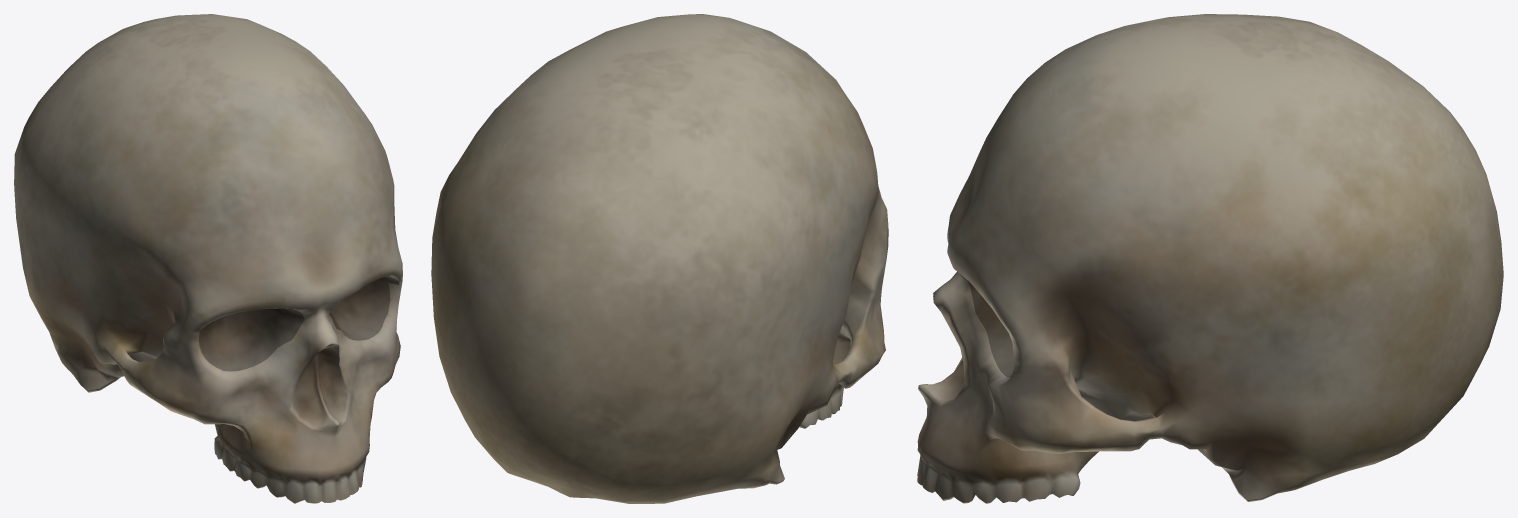
The model's file is skull.gltf.
3 renders of one model, left to right at view 1: azimuth 30°, elevation 25°; view 2: azimuth 150°, elevation 25°; view 3: azimuth 270°, elevation 25°, orthographic. The views are drawn at different scales.
Parts seen in each view (by area): view 1: SM_Skeleton; view 2: SM_Skeleton; view 3: SM_Skeleton.
Boxes of the visible parts, x1=… form: SM_Skeleton: x1=14, y1=14, x2=402, y2=503; SM_Skeleton: x1=431, y1=14, x2=888, y2=503; SM_Skeleton: x1=917, y1=14, x2=1503, y2=503.
Bounding box in the file's own units: 0.1324 × 0.162 × 0.1929.
Materials: 1 (1 with a texture image).
